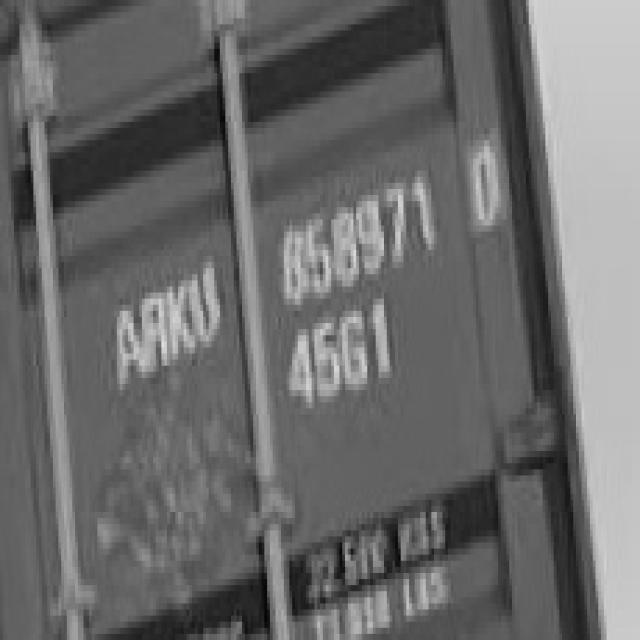dv: (460, 118, 507, 242)
owner: (103, 254, 227, 398)
serial: (278, 152, 442, 306)
size: (278, 298, 407, 422)
